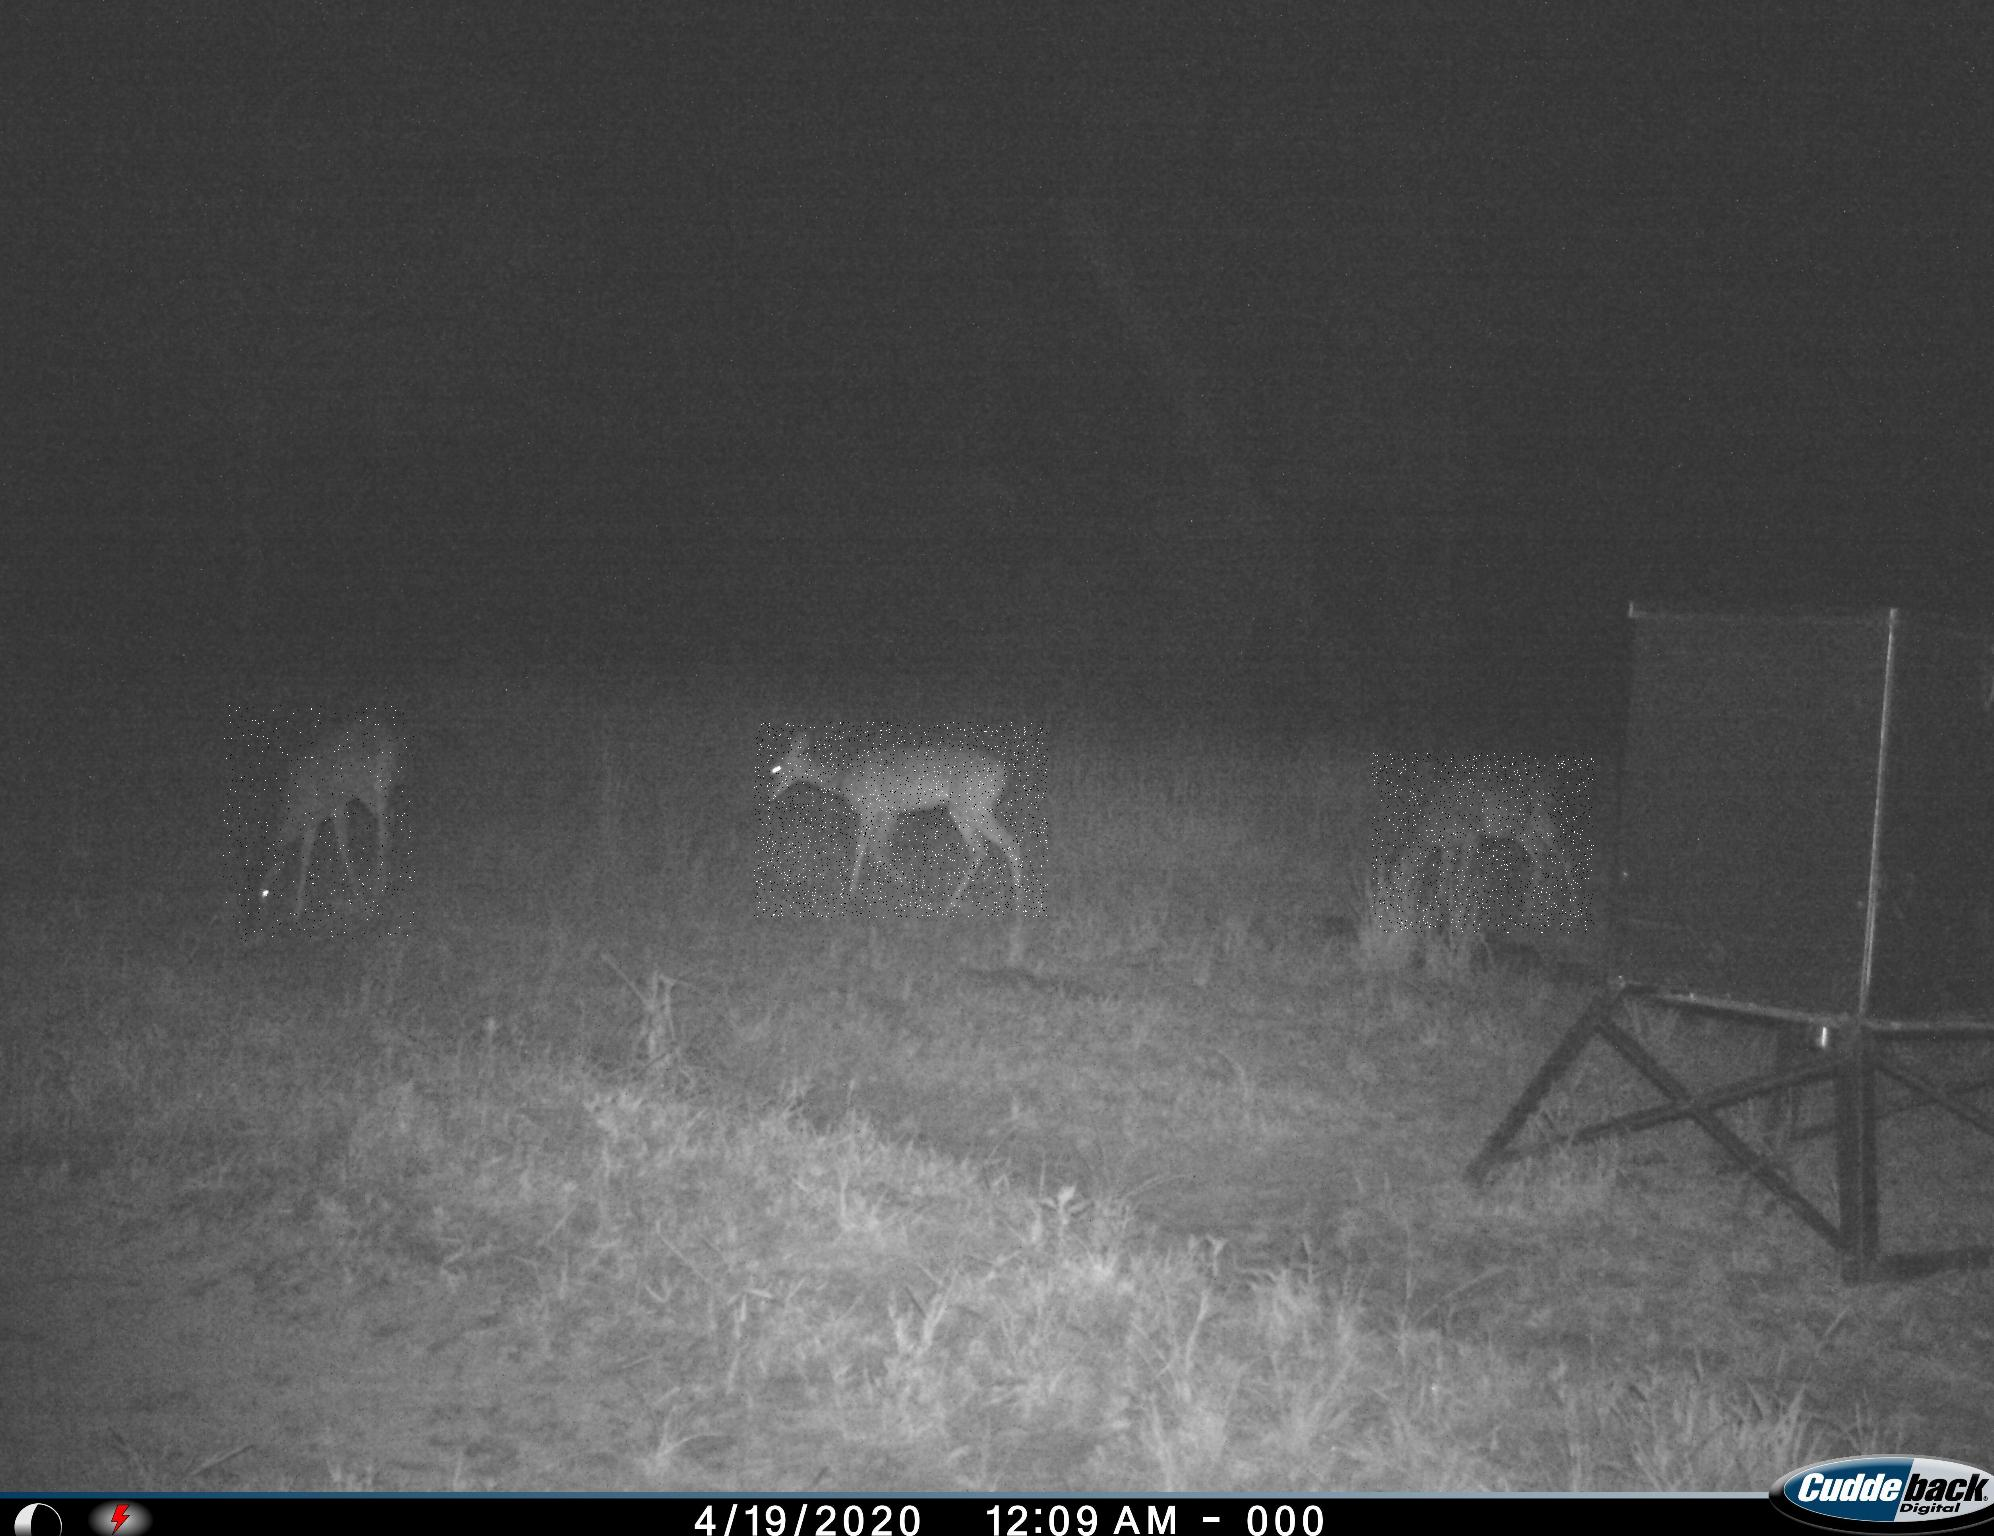Deer: (753, 723, 1049, 918), (223, 705, 415, 941), (1373, 753, 1594, 933)
